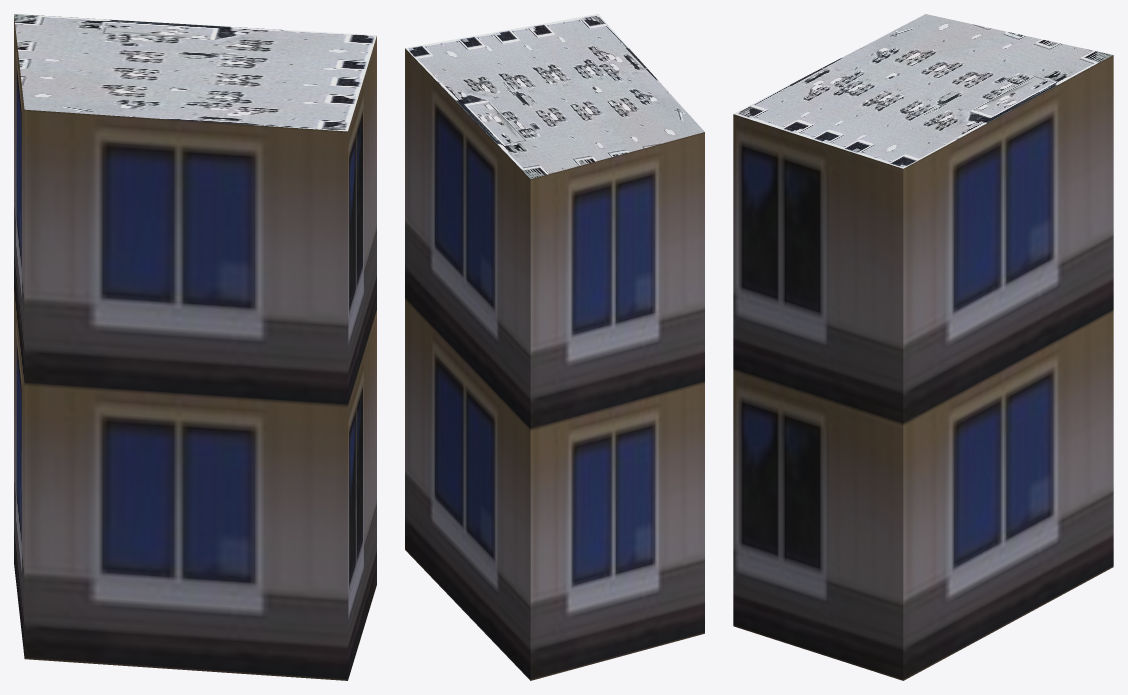
The model's file is ResTex__4024.fbx.
3 renders of one model, left to right at view 1: azimuth 30°, elevation 25°; view 2: azimuth 150°, elevation 25°; view 3: azimuth 270°, elevation 25°, orthographic. The views are drawn at different scales.
Visible parts, largest first — view 1: CityEngineMaterial_5_m, CityEngineMaterial_4_m; view 2: CityEngineMaterial_5_m, CityEngineMaterial_4_m; view 3: CityEngineMaterial_5_m, CityEngineMaterial_4_m.
Boxes of the visible parts, bbox=[...] form: CityEngineMaterial_5_m: bbox=[14, 16, 376, 680]; CityEngineMaterial_4_m: bbox=[14, 14, 376, 131]; CityEngineMaterial_5_m: bbox=[405, 48, 704, 680]; CityEngineMaterial_4_m: bbox=[405, 14, 704, 178]; CityEngineMaterial_5_m: bbox=[733, 55, 1113, 680]; CityEngineMaterial_4_m: bbox=[733, 14, 1112, 168].
Bounding box in the file's own units: 3.89 × 6 × 4.04.
Materials: 2 (2 with a texture image).
